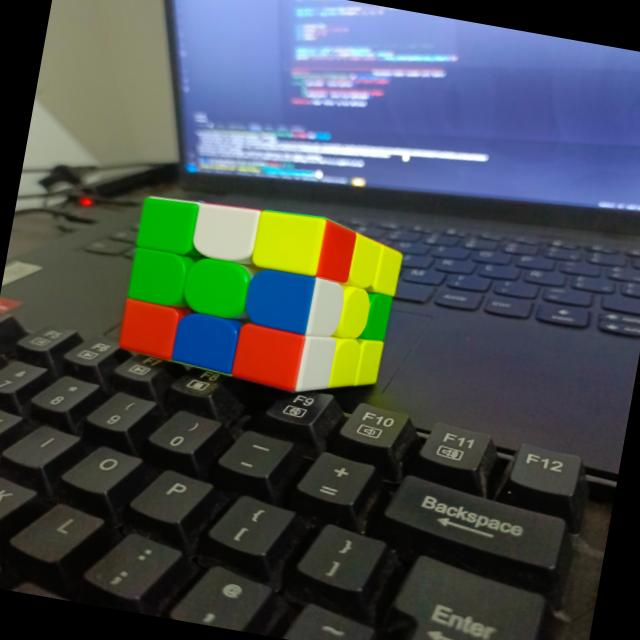rubik: (112, 184, 408, 406)
